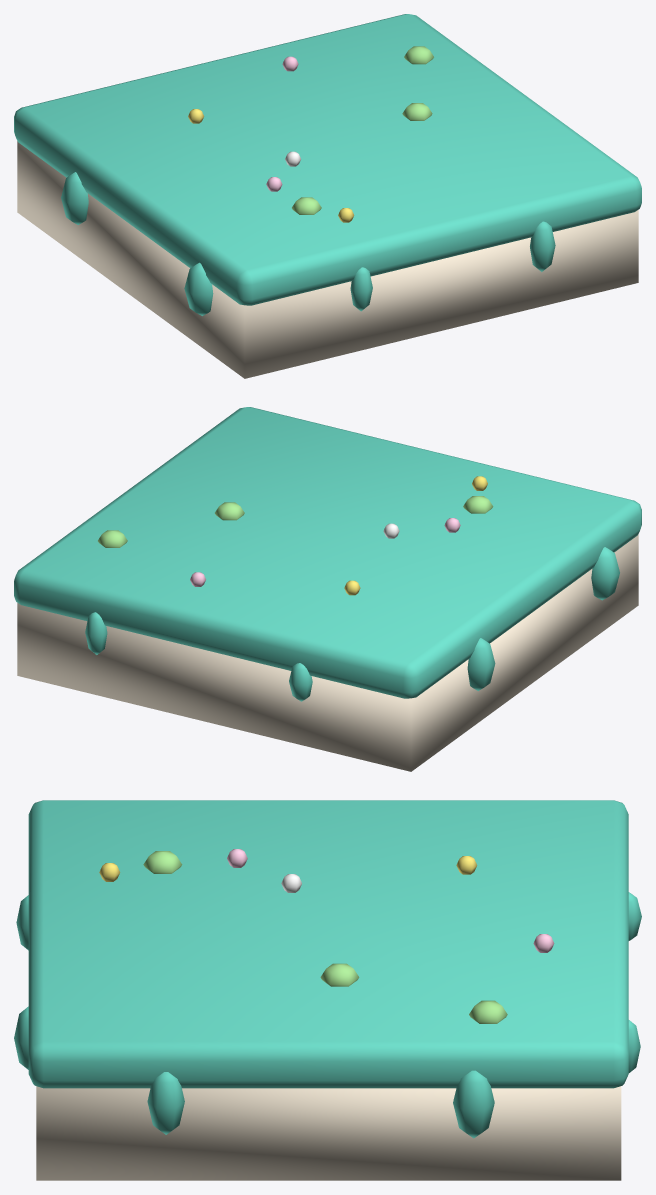
File: bg_tile_mint2.glb
The picture shows the model from 3 angles, top to bottom: view 1: azimuth 30°, elevation 25°; view 2: azimuth 150°, elevation 25°; view 3: azimuth 270°, elevation 25°; orthographic projection. The views are drawn at different scales.
Visible parts, largest first — view 1: M_Tile_mint2__t_top_mint2, M_Tile_mint2__t_side_mint2, M_Tile_mint2__tuft; view 2: M_Tile_mint2__t_top_mint2, M_Tile_mint2__t_side_mint2, M_Tile_mint2__tuft; view 3: M_Tile_mint2__t_top_mint2, M_Tile_mint2__t_side_mint2, M_Tile_mint2__tuft, M_Tile_mint2__fl0, M_Tile_mint2__fl1.
Part boxes in pixels (box(x1,y1,x2,y2)): M_Tile_mint2__t_top_mint2: box(14, 14, 641, 315); M_Tile_mint2__t_side_mint2: box(17, 141, 638, 378); M_Tile_mint2__tuft: box(292, 46, 433, 214); M_Tile_mint2__t_top_mint2: box(14, 407, 641, 701); M_Tile_mint2__t_side_mint2: box(17, 534, 638, 771); M_Tile_mint2__tuft: box(98, 496, 493, 547); M_Tile_mint2__t_top_mint2: box(14, 800, 641, 1138); M_Tile_mint2__t_side_mint2: box(36, 1086, 621, 1180); M_Tile_mint2__tuft: box(143, 851, 507, 1023); M_Tile_mint2__fl0: box(227, 849, 554, 952); M_Tile_mint2__fl1: box(99, 856, 477, 881).
Size of the model in its own units: 4.21 by 1.12 by 4.19.
